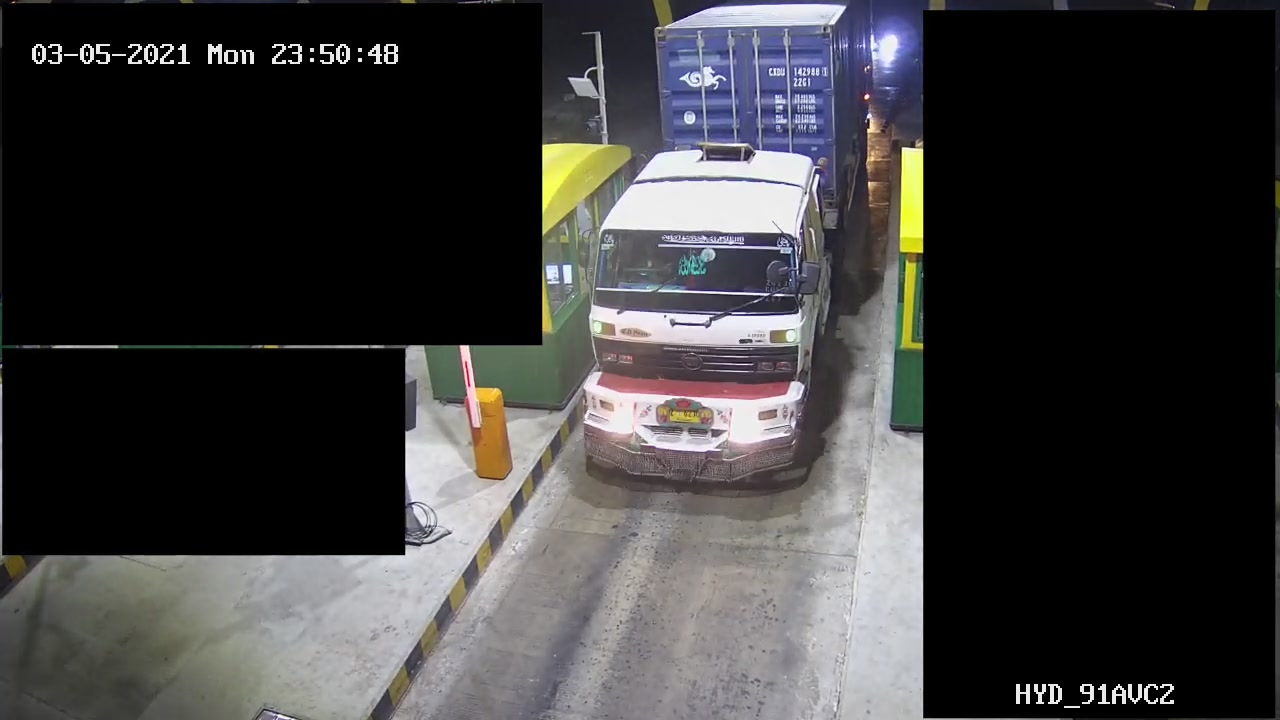F6: (574, 1, 892, 504)
